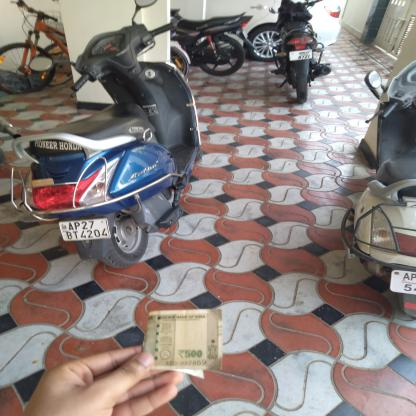New500Front: (147, 311, 222, 369)
